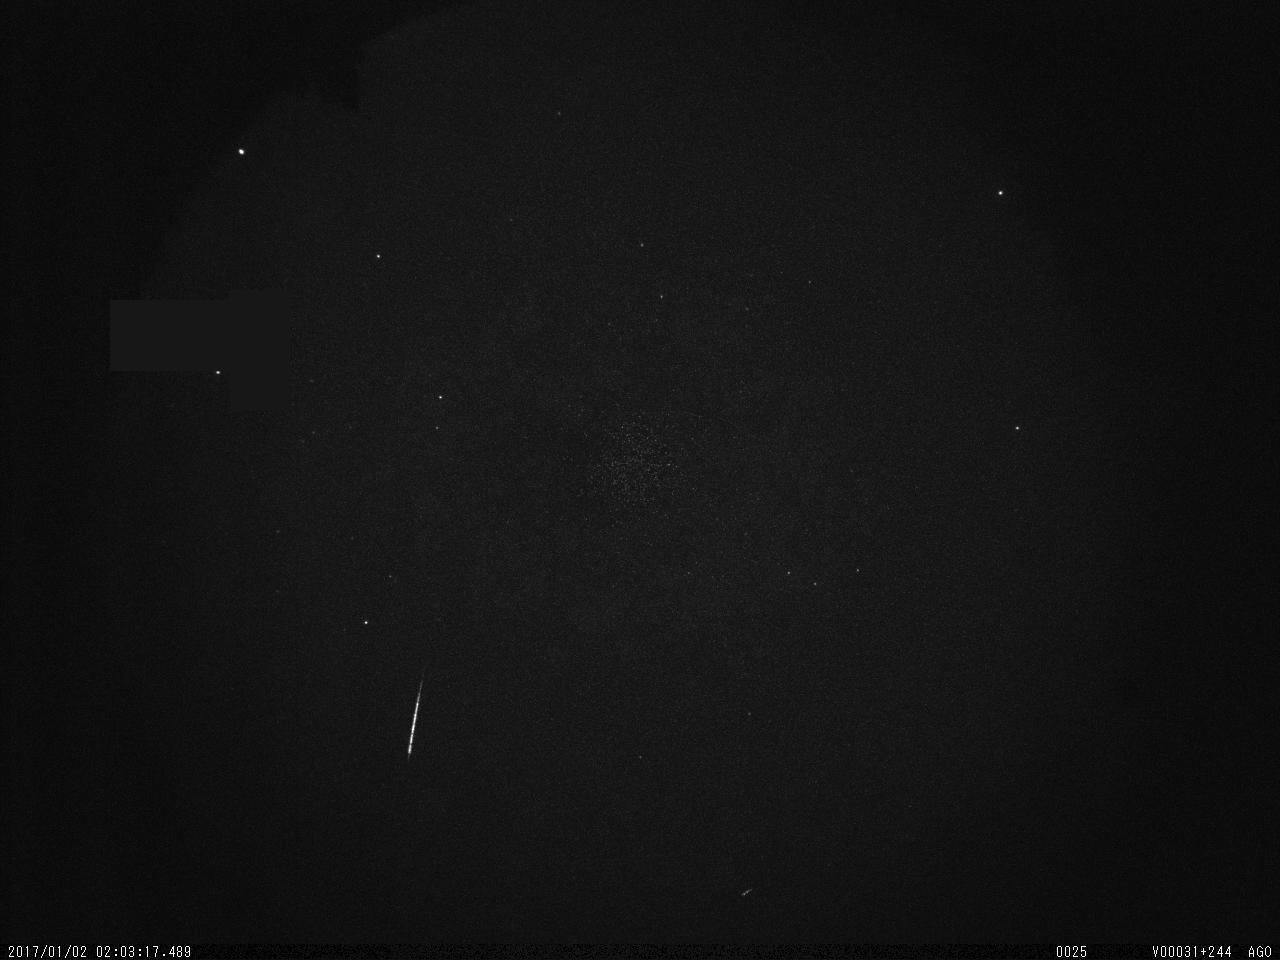meteor: (393, 668, 444, 770)
